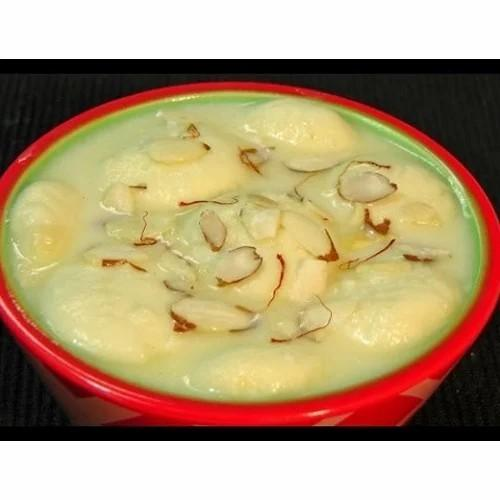RasMalai: (2, 97, 485, 399)
